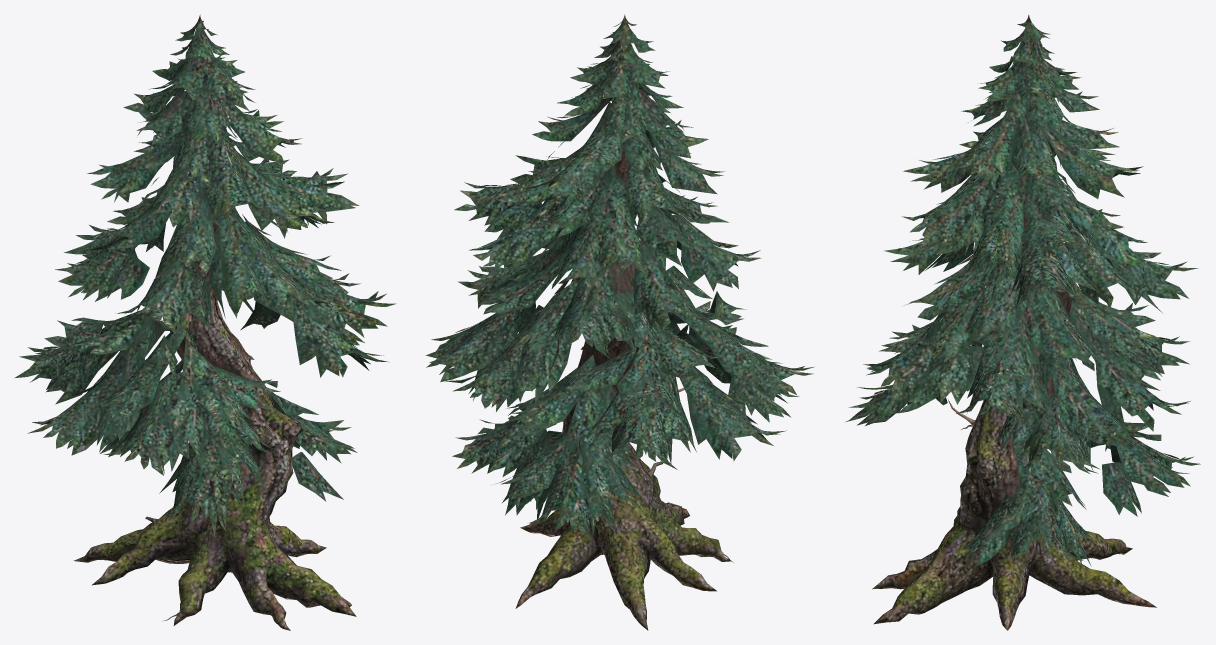
Rendered from tree_pine_tall.glb.
3 views of the same model, side by side, from view 1: azimuth 30°, elevation 25°; view 2: azimuth 150°, elevation 25°; view 3: azimuth 270°, elevation 25° (orthographic).
Parts seen in each view (by area): view 1: tripo_node_61047050-f181-4371-9a8b-4992b3705c36; view 2: tripo_node_61047050-f181-4371-9a8b-4992b3705c36; view 3: tripo_node_61047050-f181-4371-9a8b-4992b3705c36.
Boxes of the visible parts, x1=… form: tripo_node_61047050-f181-4371-9a8b-4992b3705c36: x1=14, y1=14, x2=396, y2=630; tripo_node_61047050-f181-4371-9a8b-4992b3705c36: x1=425, y1=14, x2=813, y2=630; tripo_node_61047050-f181-4371-9a8b-4992b3705c36: x1=845, y1=14, x2=1200, y2=630.
Size of the model in its own units: 0.6323 by 0.9995 by 0.5649.
Materials: 1 (1 with a texture image).
